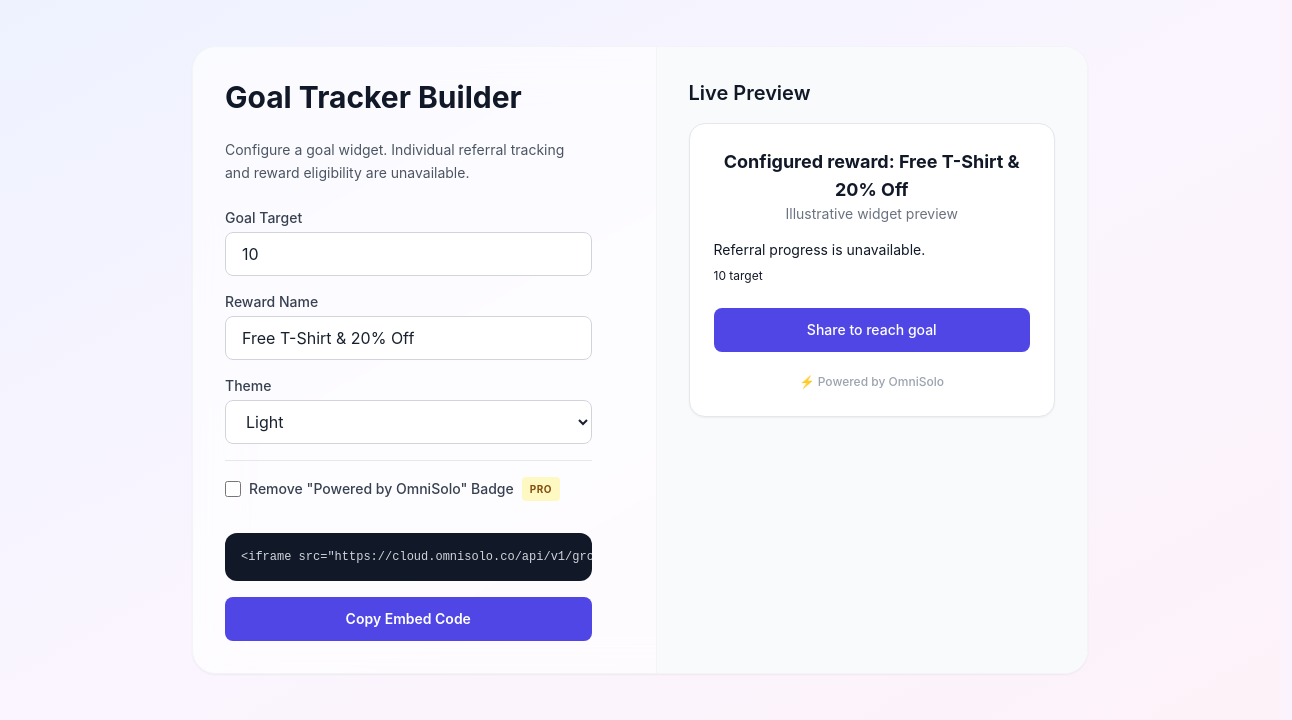
it: ViralGoalTrackerPage › copies embed code to clipboard
Click the button "Copy Embed Code" at (408, 619), box [225,597,592,641]
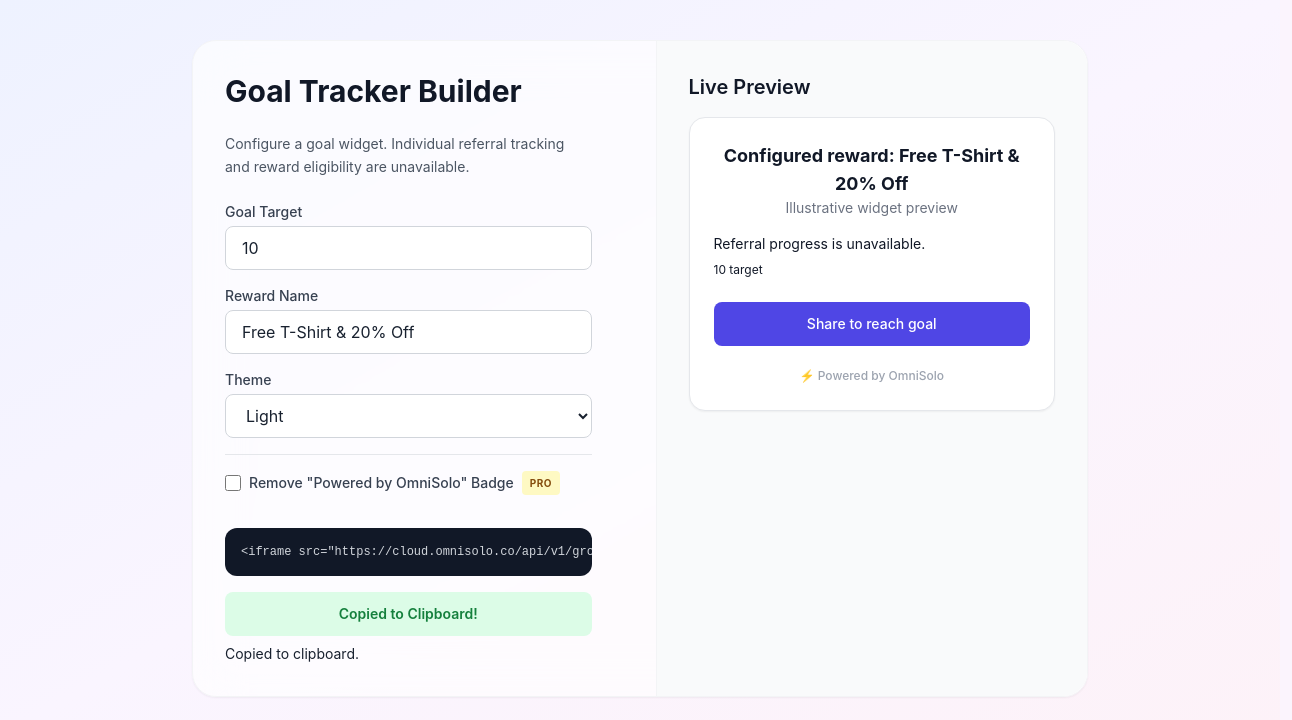
Now the button "Copied to Clipboard!" is shown, box [225,592,592,636]
